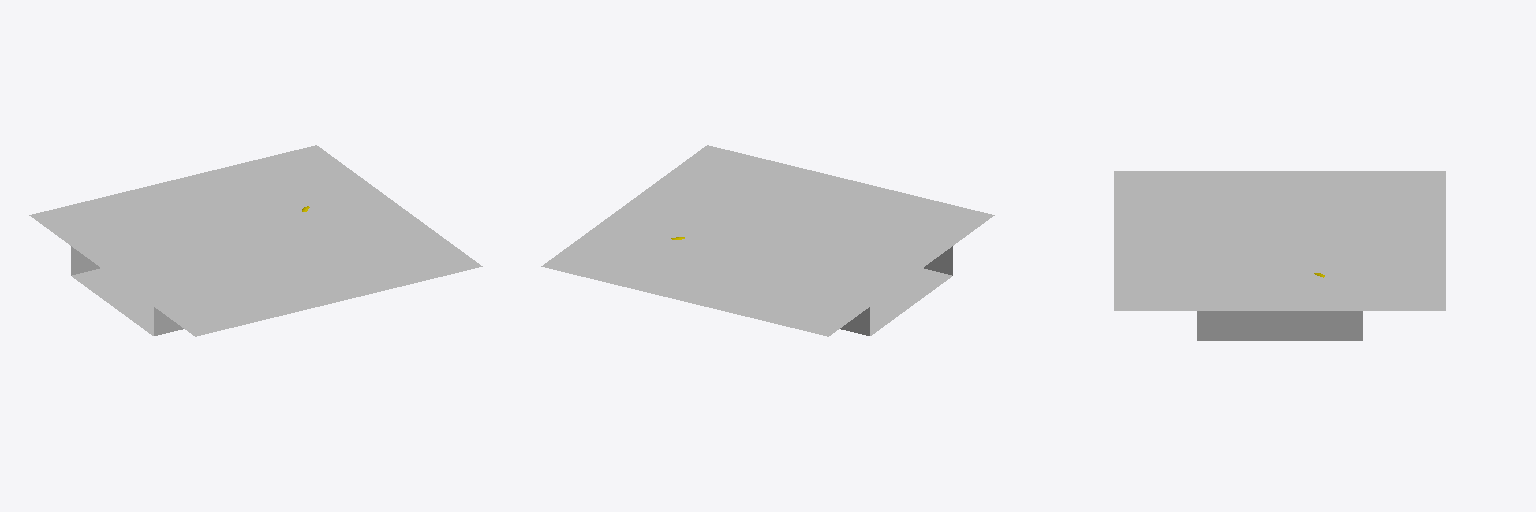
The model's file is testscene2.obj.
The picture shows the model from 3 angles: view 1: azimuth 30°, elevation 25°; view 2: azimuth 150°, elevation 25°; view 3: azimuth 270°, elevation 25°; orthographic projection.
Parts seen in each view (by area): view 1: Plane.001, Plane; view 2: Plane.001, Plane; view 3: Plane.001, Plane.002.
Part boxes in pixels (x1,y1,x2,y2): Plane.001: (29,145,482,336); Plane: (72,268,153,335); Plane.001: (541,145,994,336); Plane: (870,268,951,335); Plane.001: (1114,171,1445,310); Plane.002: (1197,311,1362,340).
Bounding box in the file's own units: 20 × 2.13 × 20.